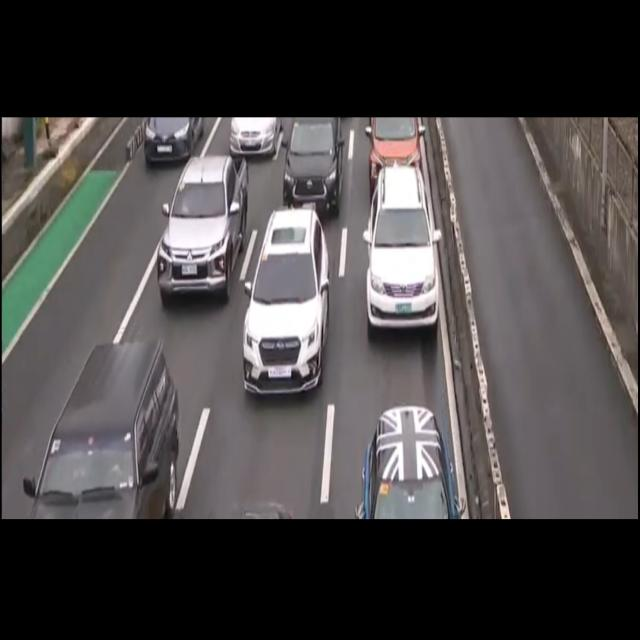SUV: (24, 336, 184, 514), (242, 206, 328, 395), (153, 160, 239, 304), (366, 167, 439, 335), (281, 117, 339, 204)
Sedan: (362, 411, 460, 518)
